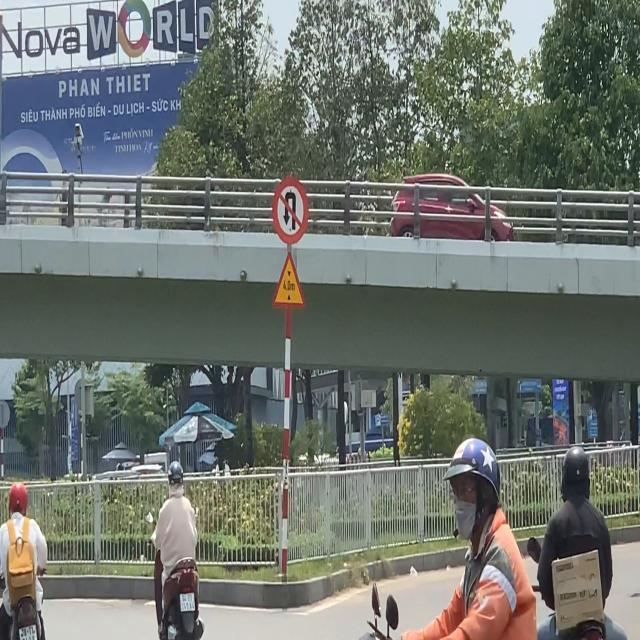Cam quay dau xe: (272, 178, 310, 246)
Nguy hiem: (269, 248, 307, 312)
